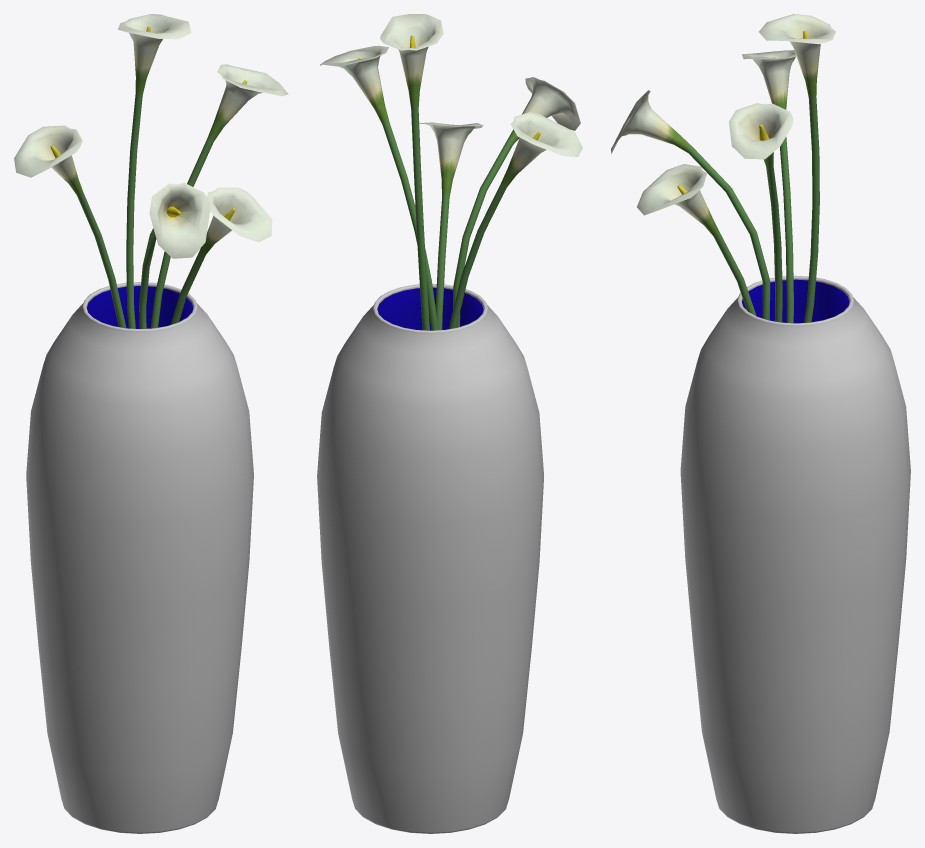
Rendered from VaseFloor03_2.FBX.
3 renders of one model, left to right at view 1: azimuth 30°, elevation 25°; view 2: azimuth 150°, elevation 25°; view 3: azimuth 270°, elevation 25°, orthographic.
Visible parts, largest first — view 1: VaseFloor03_2; view 2: VaseFloor03_2; view 3: VaseFloor03_2.
Part boxes in pixels (x1=…): VaseFloor03_2: x1=14, y1=14, x2=288, y2=833; VaseFloor03_2: x1=317, y1=14, x2=582, y2=833; VaseFloor03_2: x1=611, y1=14, x2=910, y2=833.
Bounding box in the file's own units: 84.83 × 239 × 83.05.
